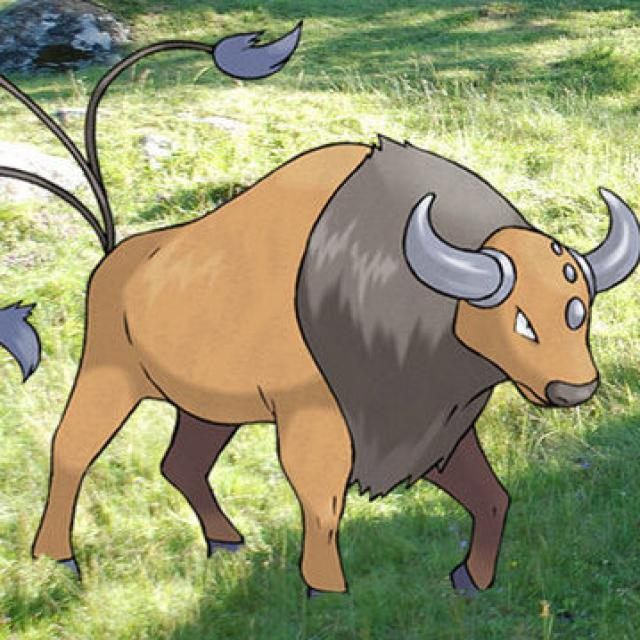Tauros: (58, 128, 620, 588)
